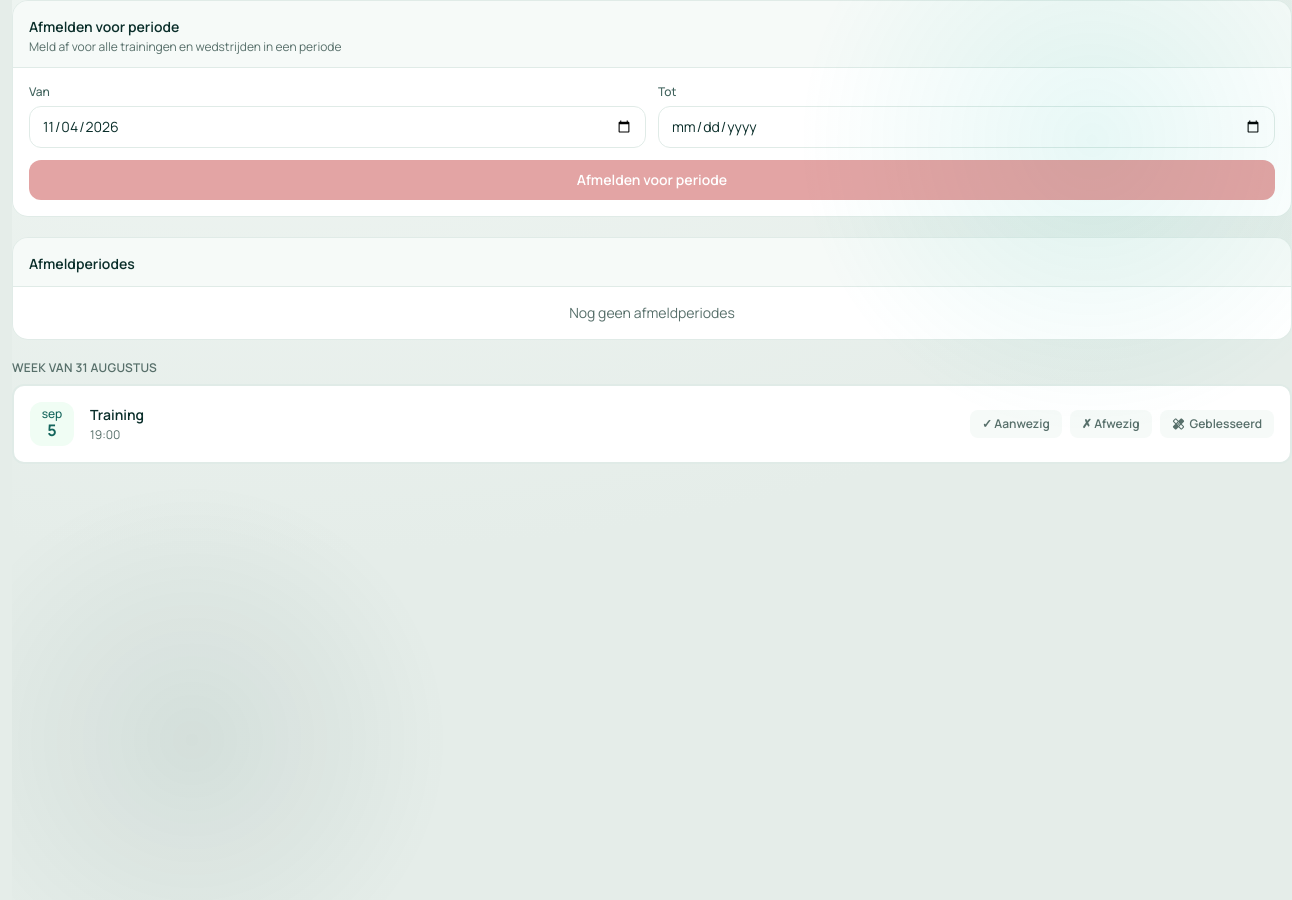
Test: periode-teller volgt het servercontract, niet een lokale telling (bevinding 7) › toont periodNone wanneer de server affected: 0 teruggeeft, ongeacht een lokaal aanwezig event in de range
The image size is (1292, 900).
Type "2026-09-01" into the 1st date field.
click(338, 127); type("2026-09-01")  # box [29, 106, 646, 148]
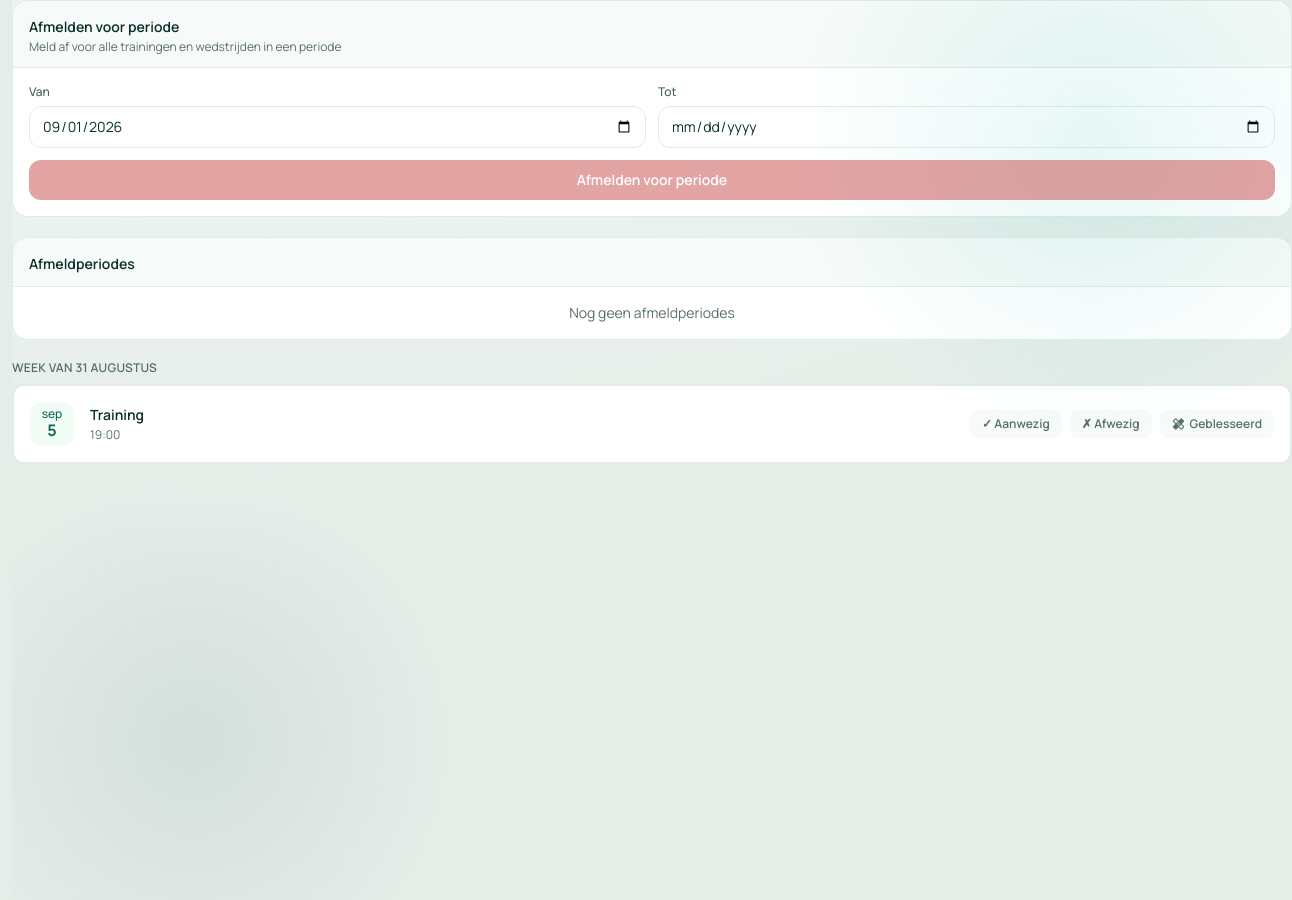
Type "2026-09-10" into the date field below "Tot".
click(966, 127); type("2026-09-10")  # box [658, 106, 1275, 148]
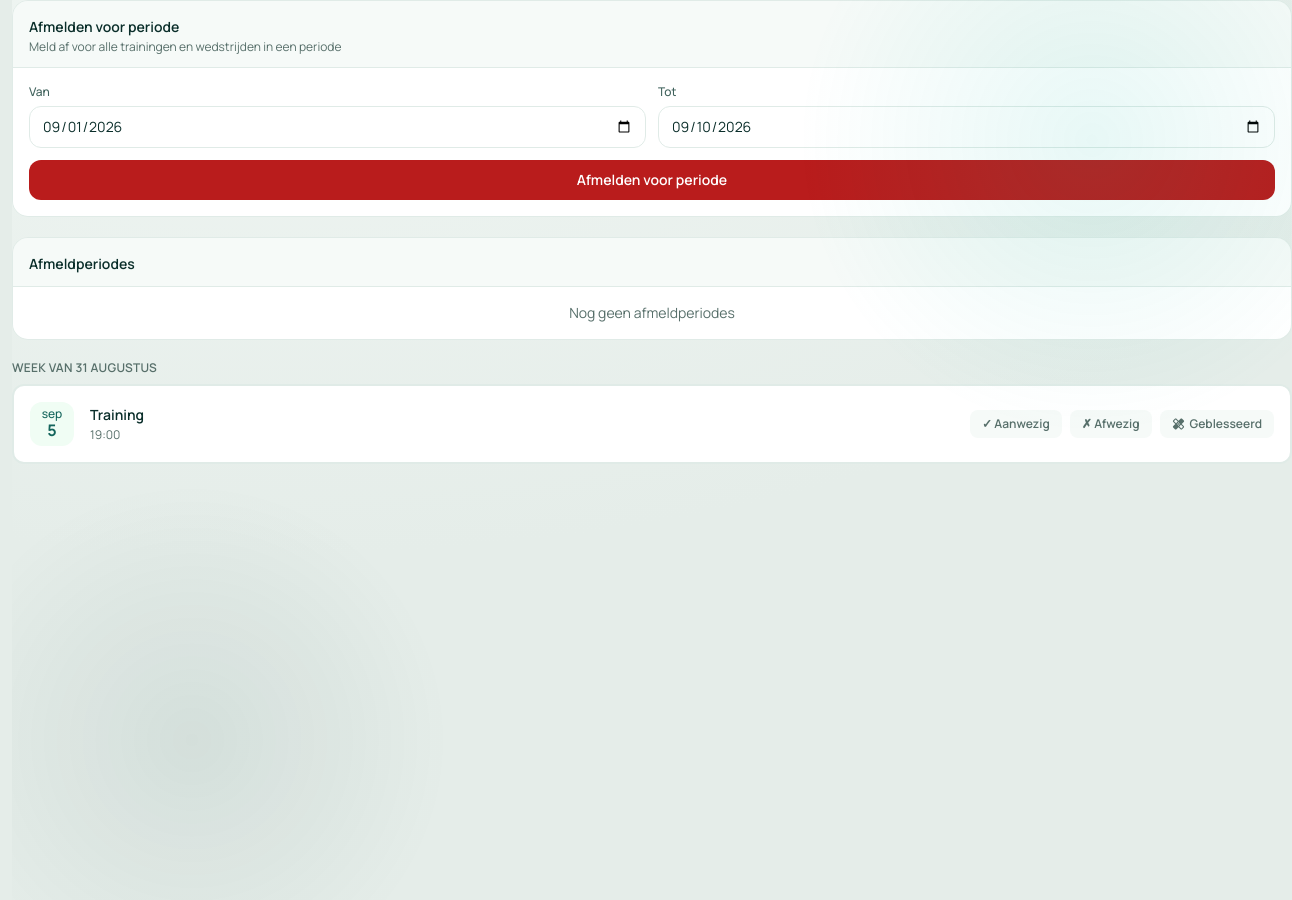
Click the button "Afmelden voor periode".
click(652, 180)  # box [29, 160, 1275, 200]
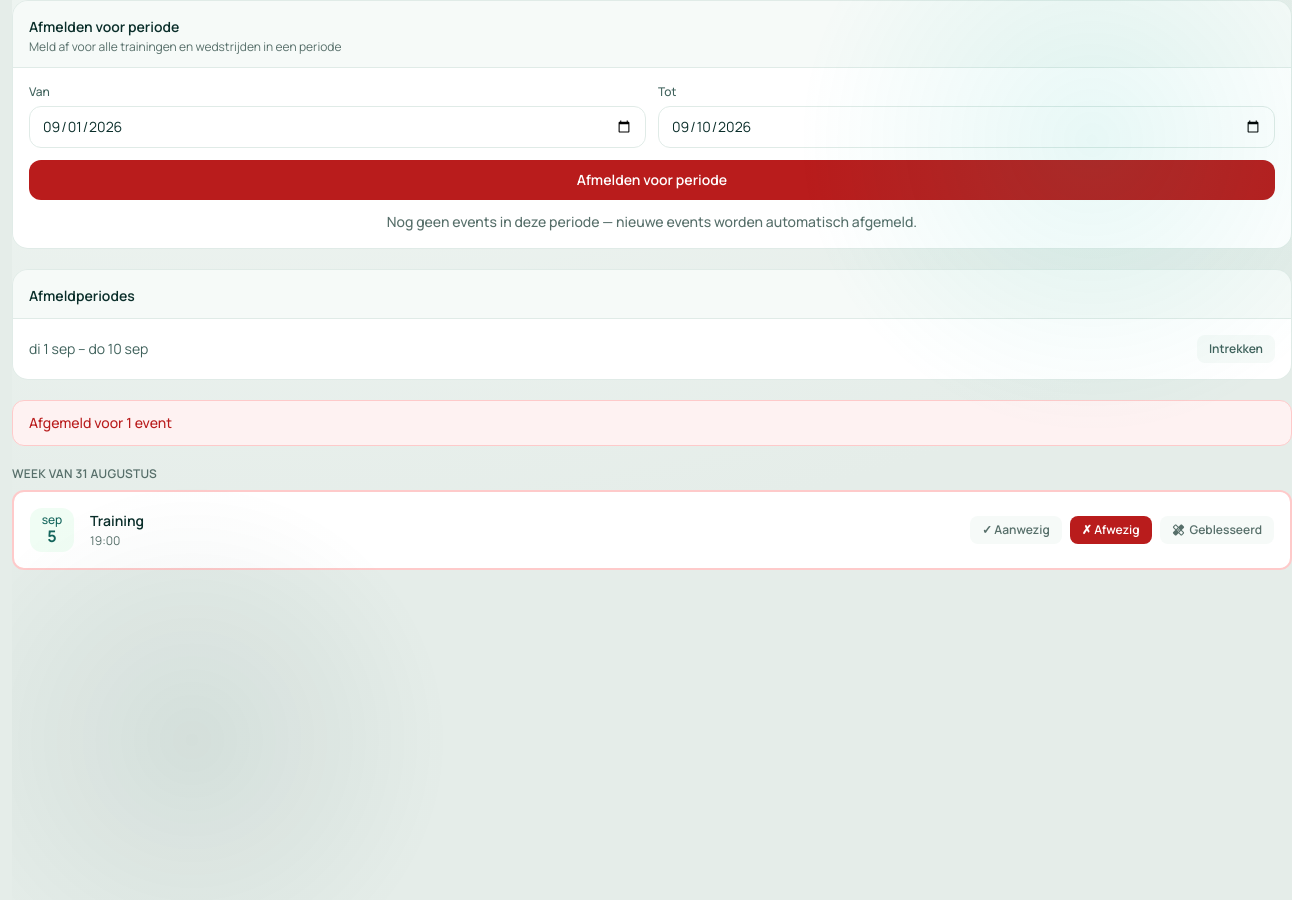
Check: the text "Nog geen events in deze periode — nieuwe events worden automatisch afgemeld." is shown, box [387, 212, 917, 231]
